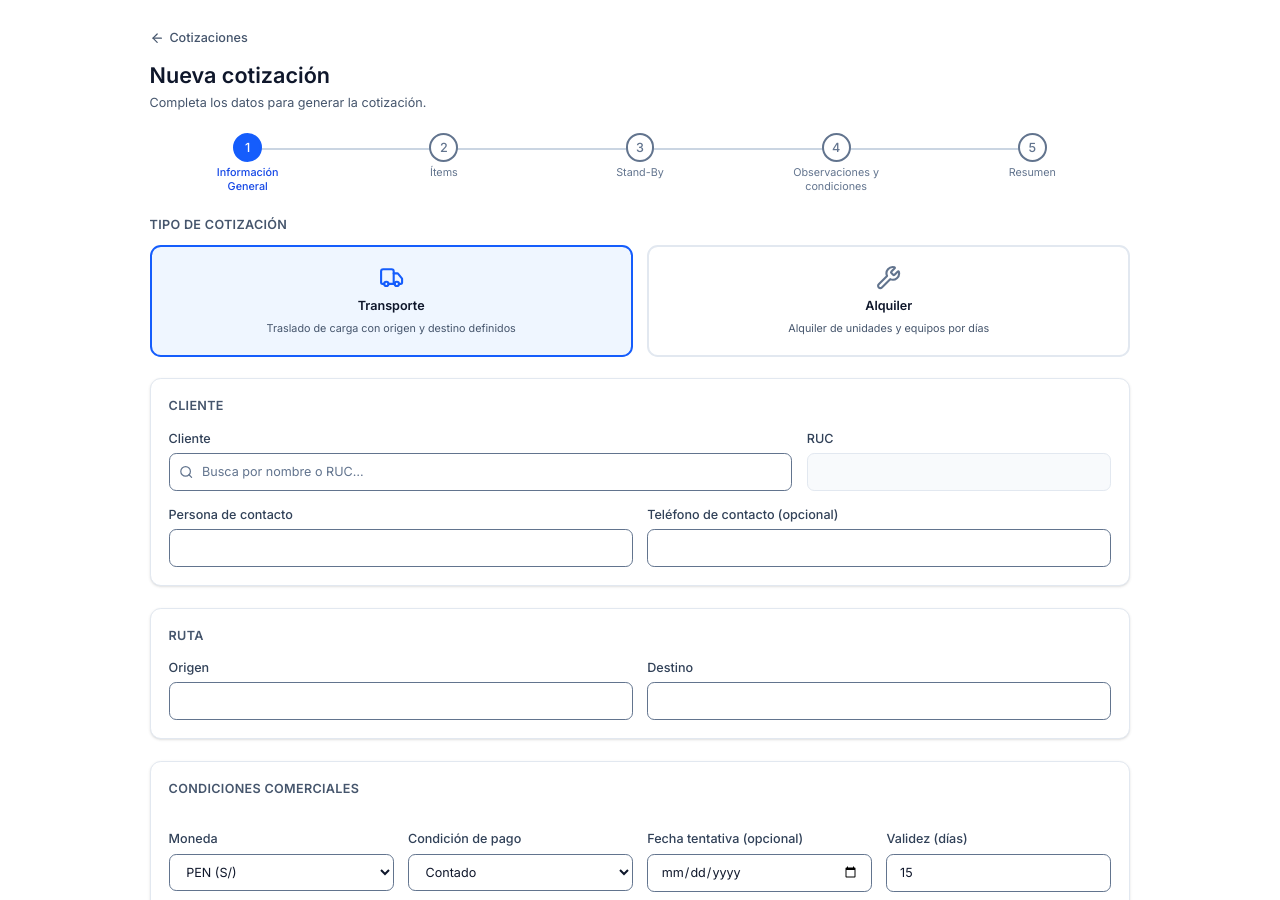
Scenario: CotizacionWizardPage › busca clientes con 3 o más caracteres (param q)
This screenshot has width=1280, height=900.
Type "acme" into the dropdown labelled "Cliente". click: (480, 472)
box: [169,453,792,491]
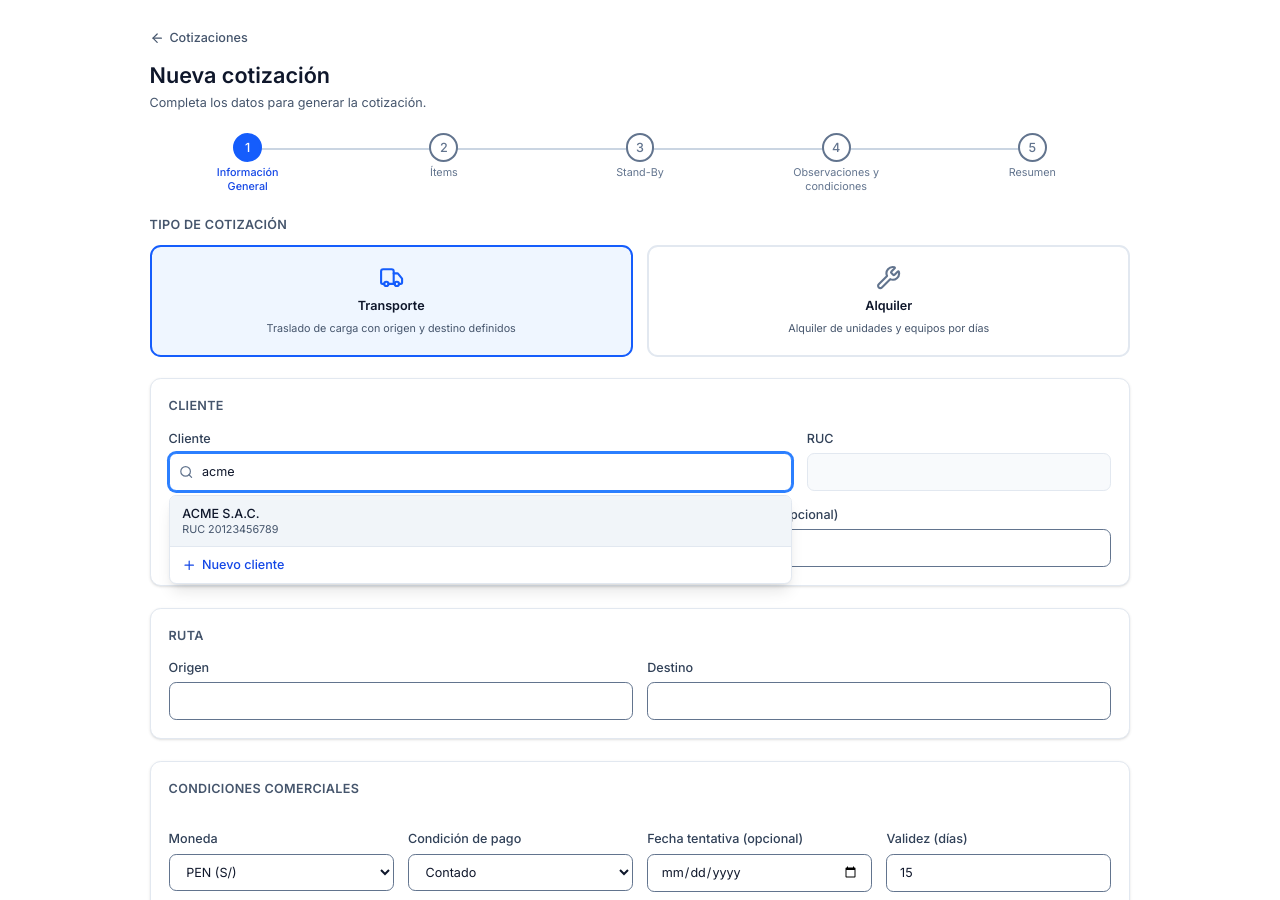
Expected: the text "ACME S.A.C." is shown, [182,506,260,521]
